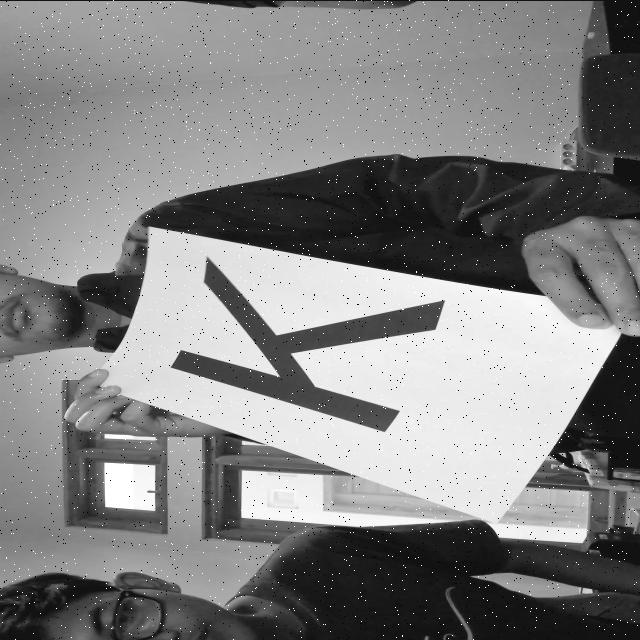k: (126, 251, 489, 444)
